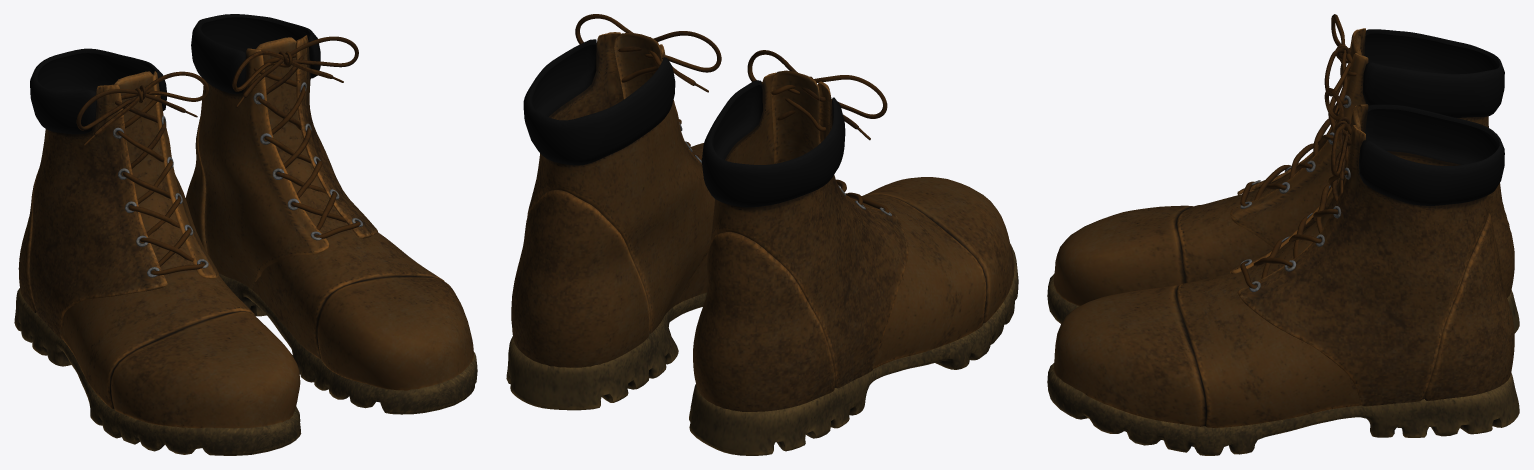
Rendered from nan_xiazi_jueyuan_02.FBX.
3 views of the same model, side by side, from view 1: azimuth 30°, elevation 25°; view 2: azimuth 150°, elevation 25°; view 3: azimuth 270°, elevation 25° (orthographic). The views are drawn at different scales.
Parts seen in each view (by area): view 1: xiezi_jueyuan; view 2: xiezi_jueyuan; view 3: xiezi_jueyuan.
Boxes of the visible parts, left/top/right/bottom form: xiezi_jueyuan: left=14, top=14, right=477, bottom=455; xiezi_jueyuan: left=506, top=14, right=1018, bottom=455; xiezi_jueyuan: left=1047, top=14, right=1519, bottom=455.
Bounding box in the file's own units: 27.09 × 21.97 × 31.26.
